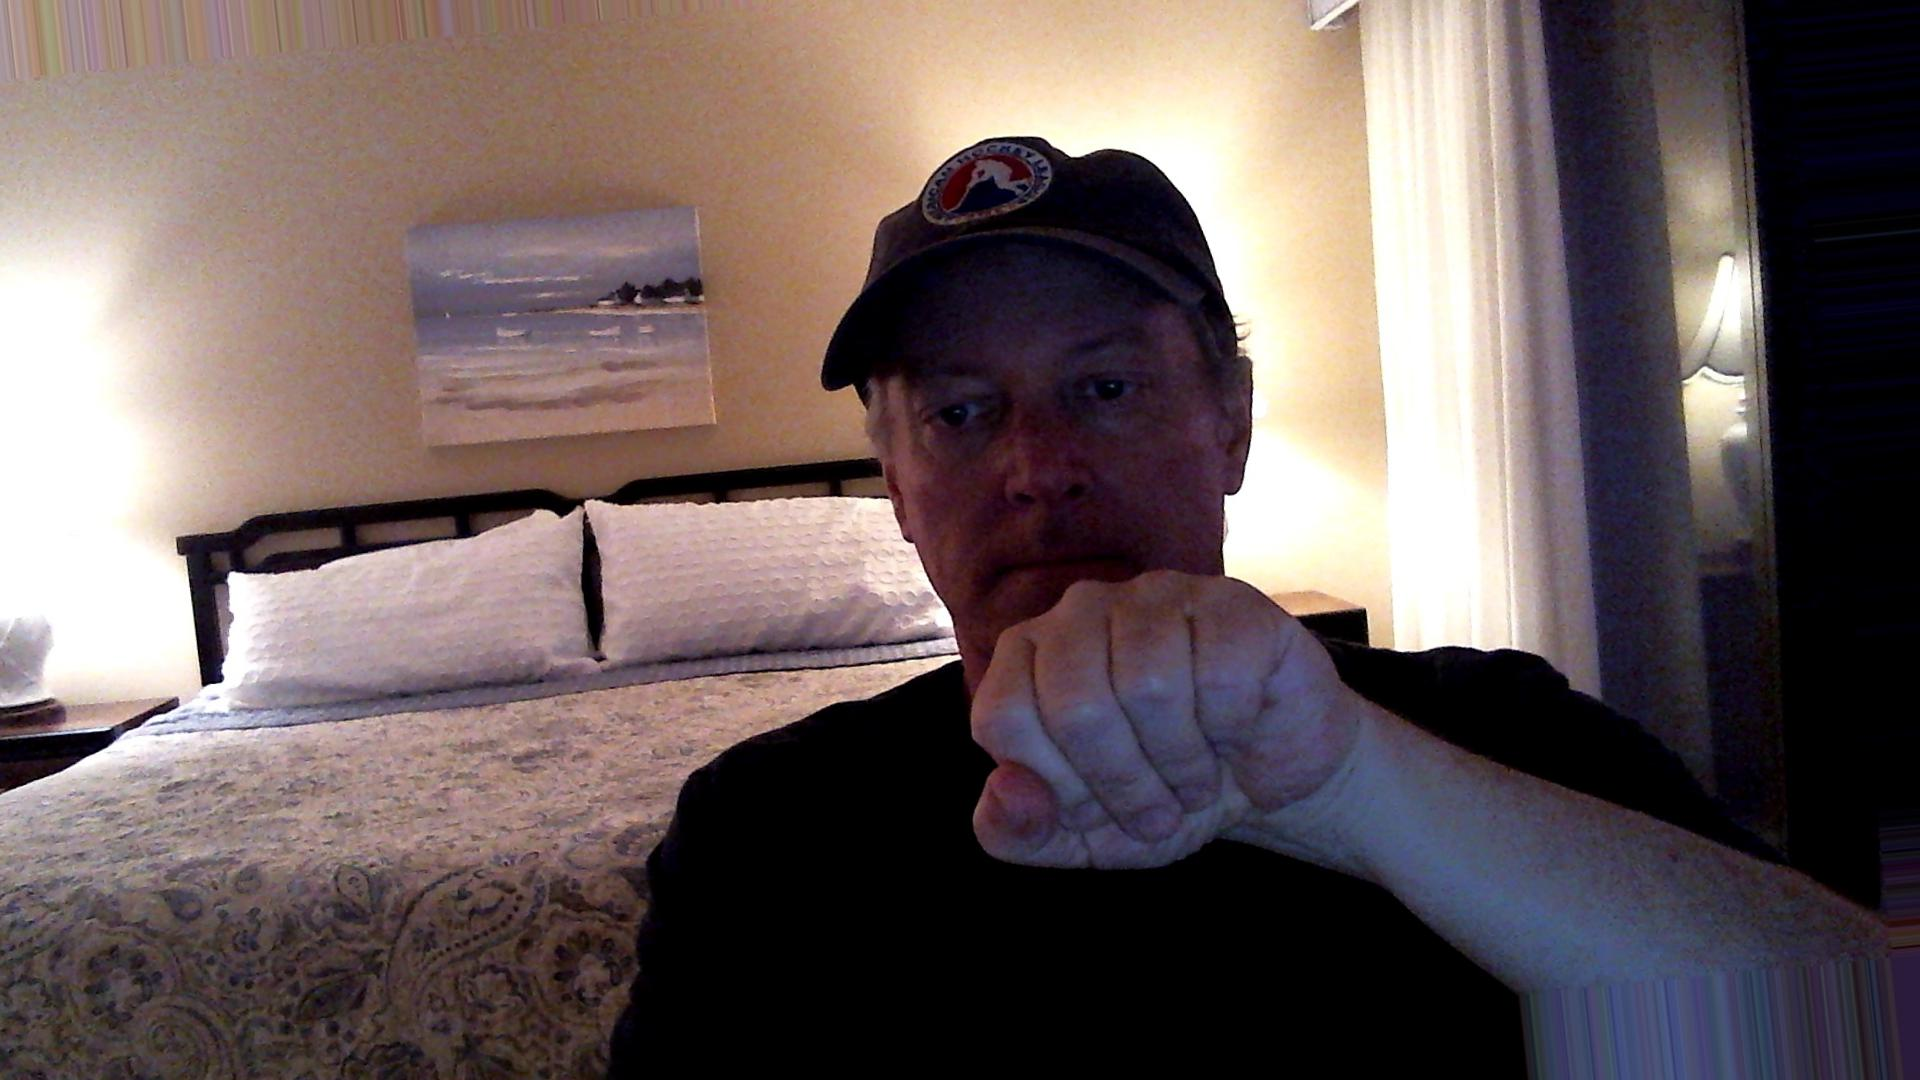Yes: (945, 554, 1373, 891)
